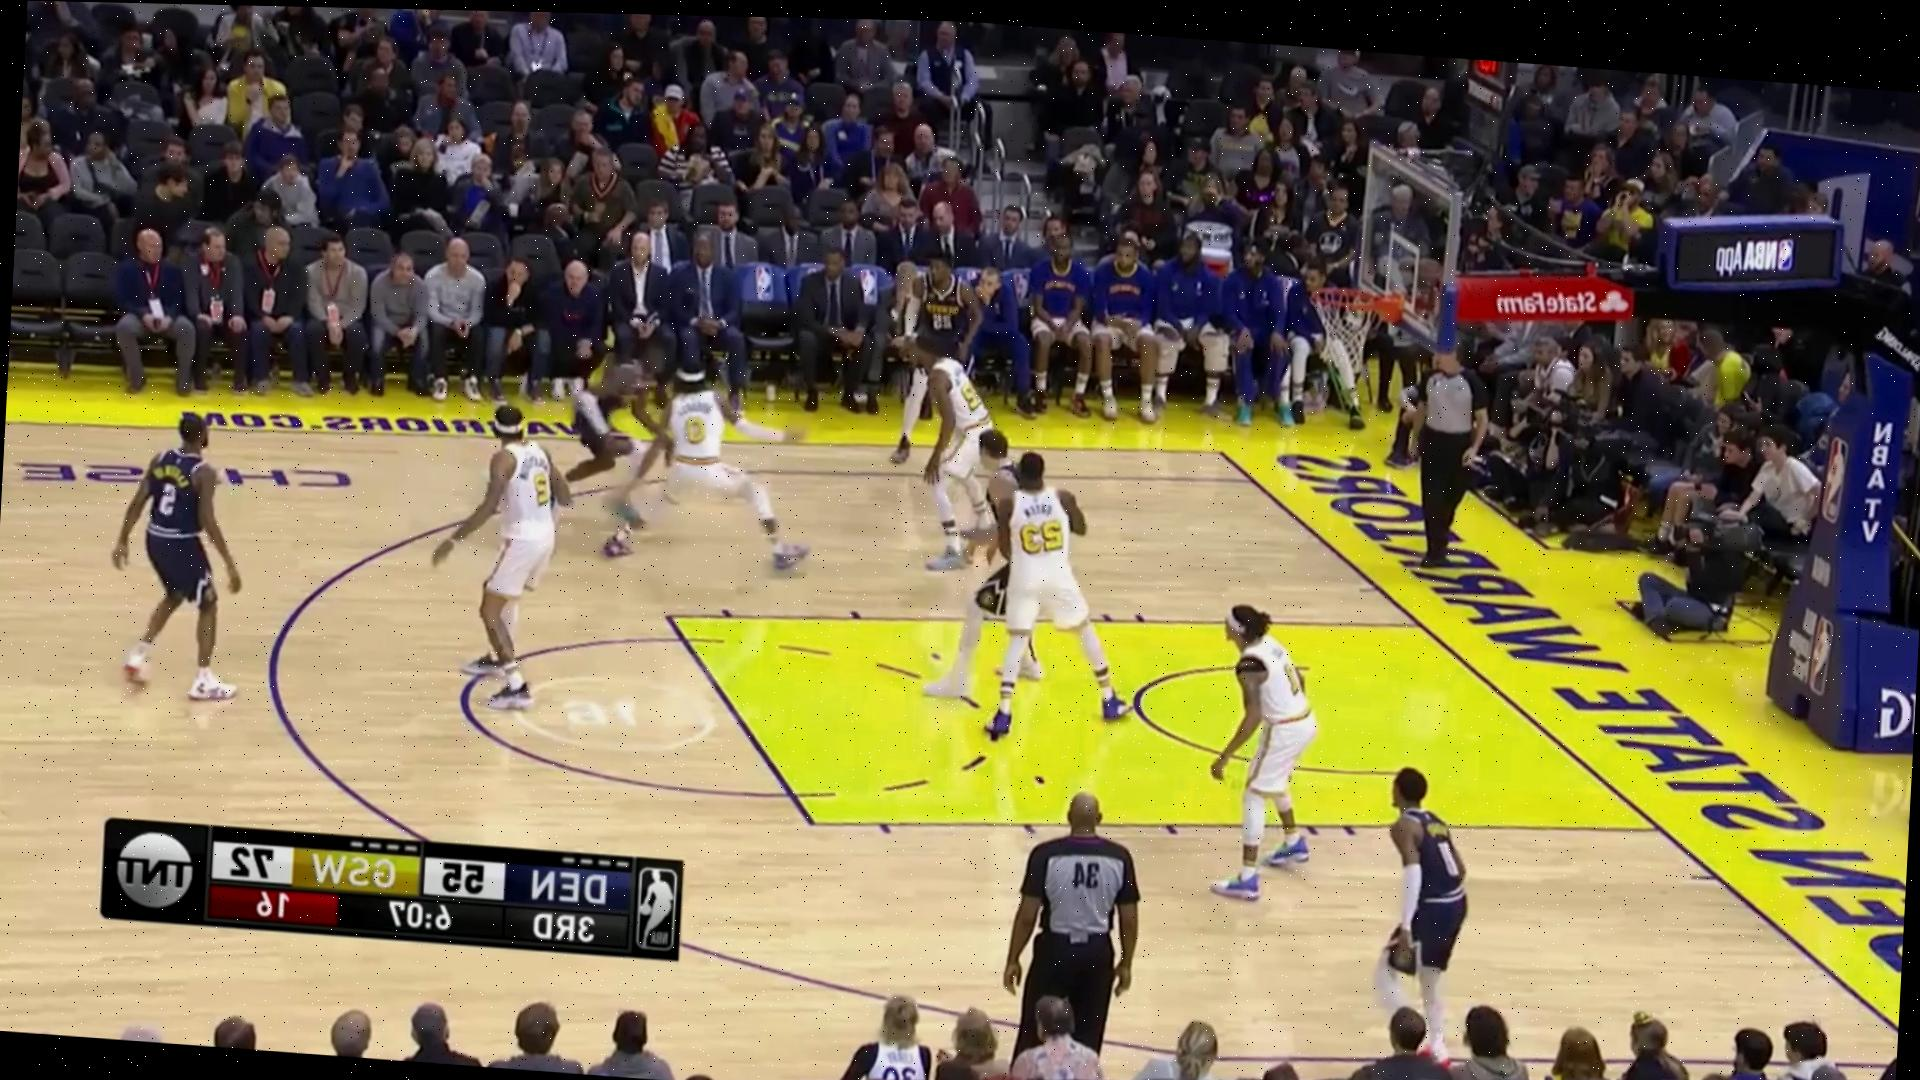no_foul: (568, 344, 737, 582)
